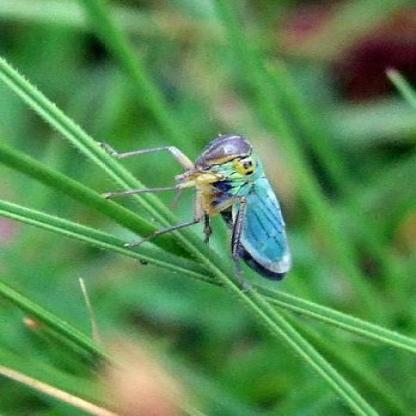Green-Leafhopper: (108, 132, 294, 284)
